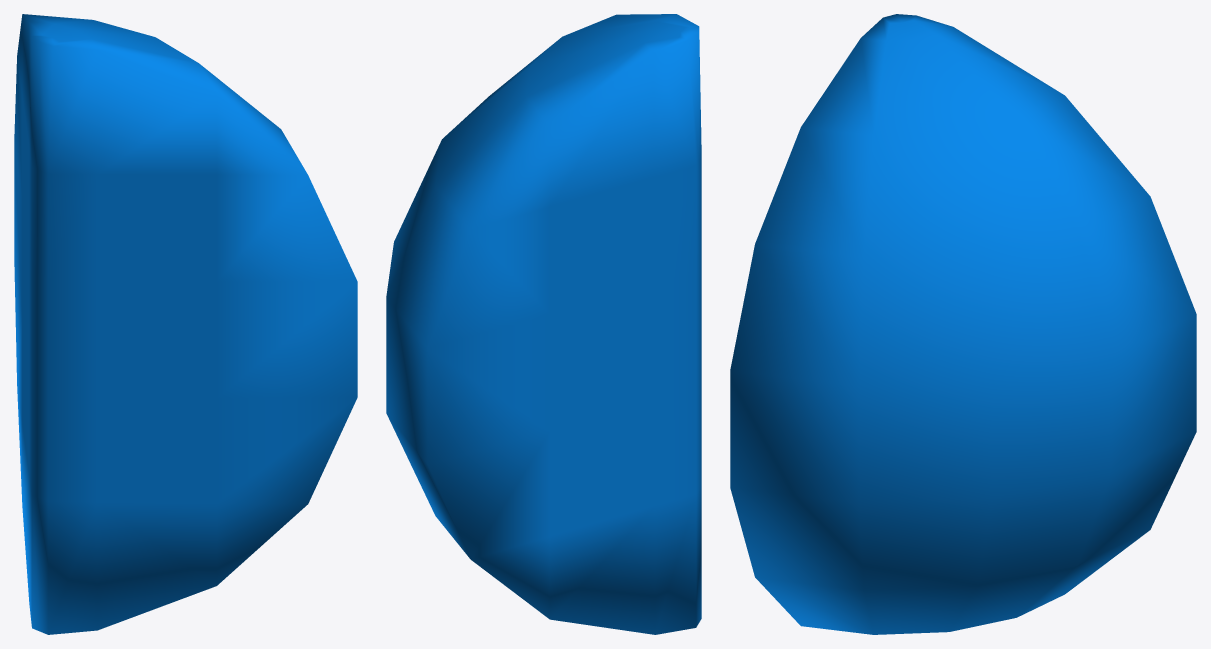
Rendered from Mesh_cabbage_quarter.fbx.
The picture shows the model from 3 angles, left to right: view 1: azimuth 30°, elevation 25°; view 2: azimuth 150°, elevation 25°; view 3: azimuth 270°, elevation 25°; orthographic projection.
Parts seen in each view (by area): view 1: QuarterCabbage; view 2: QuarterCabbage; view 3: QuarterCabbage.
Boxes of the visible parts, x1,y1,x2,y2 form: QuarterCabbage: (14,14,357,634); QuarterCabbage: (386,14,701,634); QuarterCabbage: (730,14,1196,634).
Bounding box in the file's own units: 16.26 × 33.94 × 24.03.
